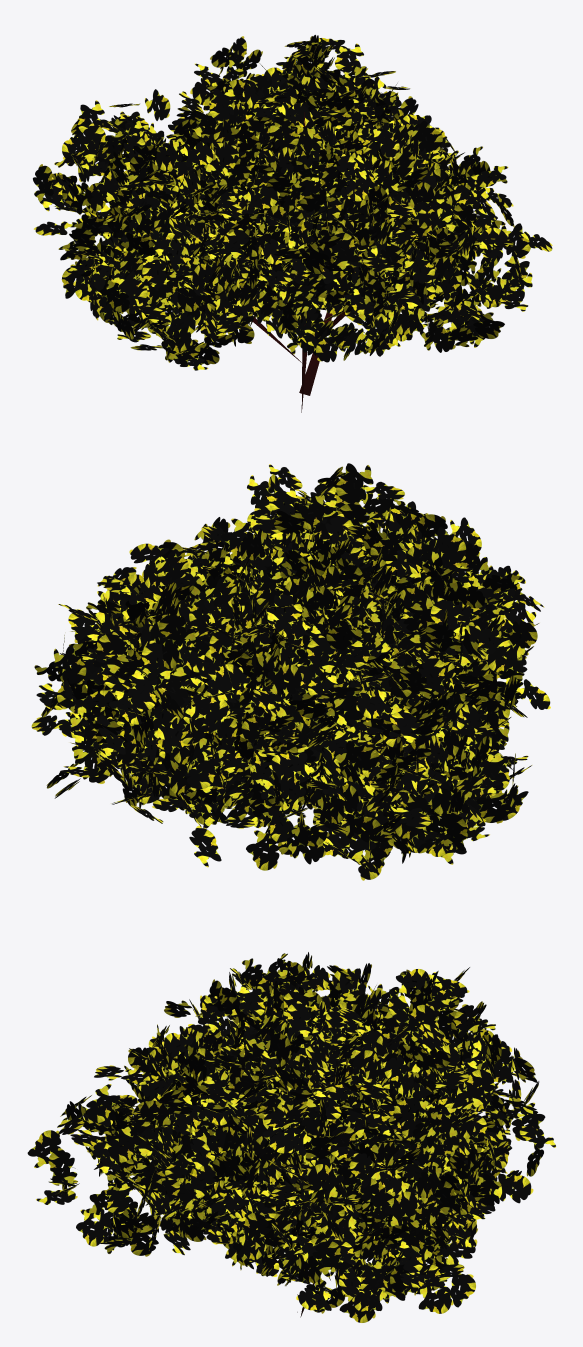
The model's file is understory_laurel_v03_LOD1.glb.
3 views of the same model, one above another, from view 1: azimuth 30°, elevation 25°; view 2: azimuth 150°, elevation 25°; view 3: azimuth 270°, elevation 25° (orthographic). The views are drawn at different scales.
Parts seen in each view (by area): view 1: understory_laurel_v03_LOD1; view 2: understory_laurel_v03_LOD1; view 3: understory_laurel_v03_LOD1.
Boxes of the visible parts, x1=… form: understory_laurel_v03_LOD1: x1=33, y1=35, x2=552, y2=412; understory_laurel_v03_LOD1: x1=31, y1=463, x2=550, y2=880; understory_laurel_v03_LOD1: x1=27, y1=952, x2=555, y2=1322.
Bounding box in the file's own units: 8.57 × 6.58 × 9.61.
2 materials, 2 textured.
